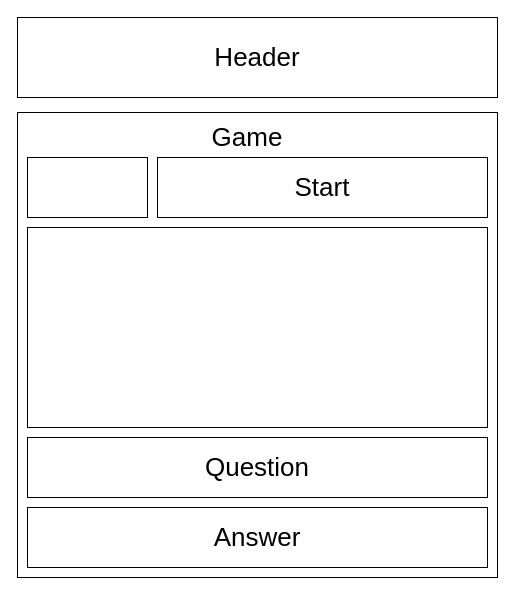
This 515x595 diagram has some shape labels left out. Each missing label, with the centre of its shape:
"Animation" goes at [257,327].
"Settings" goes at [87,187].
